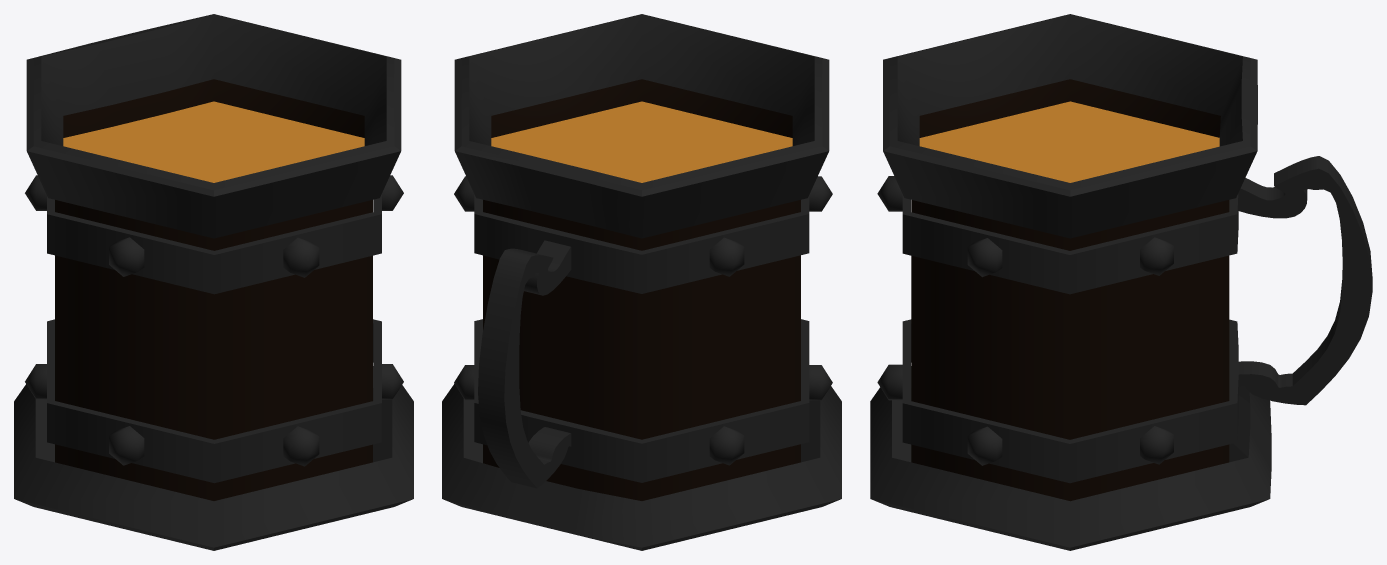
Rendered from drink.FBX.
3 views of the same model, side by side, from view 1: azimuth 30°, elevation 25°; view 2: azimuth 150°, elevation 25°; view 3: azimuth 270°, elevation 25° (orthographic).
Parts seen in each view (by area): view 1: Cylinder001, Object002, Cylinder002, Object001, Sphere001, Sphere002, Sphere007, Sphere008, Sphere006, Sphere004, Sphere003, Sphere005; view 2: Cylinder001, Cylinder002, Object001, Loft001, Object002, Sphere005, Sphere006, Sphere008, Sphere007, Sphere010, Sphere009; view 3: Cylinder001, Object002, Cylinder002, Object001, Loft001, Sphere004, Sphere003, Sphere010, Sphere009, Sphere002, Sphere001.
Part boxes in pixels (left/top/right/bottom): Cylinder001: left=14, top=14, right=413, bottom=550; Object002: left=47, top=319, right=381, bottom=483; Cylinder002: left=63, top=101, right=364, bottom=182; Object001: left=47, top=194, right=381, bottom=294; Sphere001: left=283, top=237, right=319, bottom=277; Sphere002: left=283, top=426, right=319, bottom=466; Sphere007: left=109, top=237, right=144, bottom=276; Sphere008: left=109, top=426, right=144, bottom=465; Sphere006: left=25, top=364, right=46, bottom=399; Sphere004: left=382, top=364, right=403, bottom=399; Sphere003: left=382, top=175, right=403, bottom=210; Sphere005: left=25, top=175, right=46, bottom=210; Cylinder001: left=442, top=14, right=841, bottom=550; Cylinder002: left=491, top=101, right=792, bottom=182; Object001: left=474, top=194, right=809, bottom=293; Loft001: left=478, top=240, right=571, bottom=488; Object002: left=474, top=319, right=809, bottom=482; Sphere005: left=709, top=237, right=744, bottom=276; Sphere006: left=709, top=426, right=744, bottom=465; Sphere008: left=809, top=365, right=832, bottom=400; Sphere007: left=809, top=176, right=832, bottom=211; Sphere010: left=454, top=365, right=474, bottom=400; Sphere009: left=454, top=176, right=474, bottom=211; Cylinder001: left=870, top=14, right=1271, bottom=550; Object002: left=902, top=319, right=1238, bottom=483; Cylinder002: left=919, top=101, right=1219, bottom=182; Object001: left=902, top=193, right=1238, bottom=294; Loft001: left=1238, top=156, right=1372, bottom=405; Sphere004: left=967, top=426, right=1002, bottom=465; Sphere003: left=967, top=238, right=1002, bottom=277; Sphere010: left=1140, top=426, right=1173, bottom=464; Sphere009: left=1140, top=237, right=1173, bottom=275; Sphere002: left=877, top=364, right=902, bottom=400; Sphere001: left=877, top=176, right=902, bottom=211.
Size of the model in its own units: 47 by 40.89 by 51.13.
